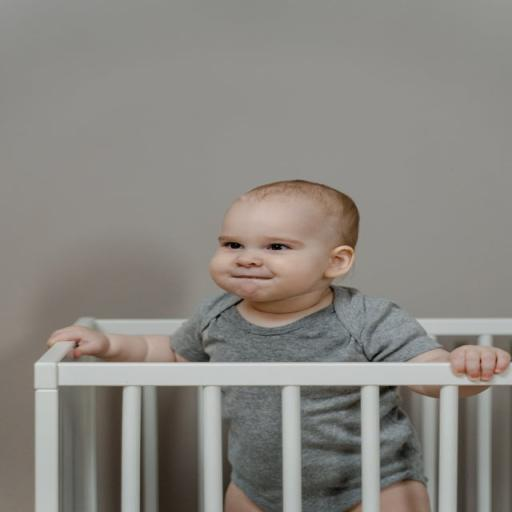baby: (48, 181, 510, 395)
crib: (35, 342, 480, 511)
